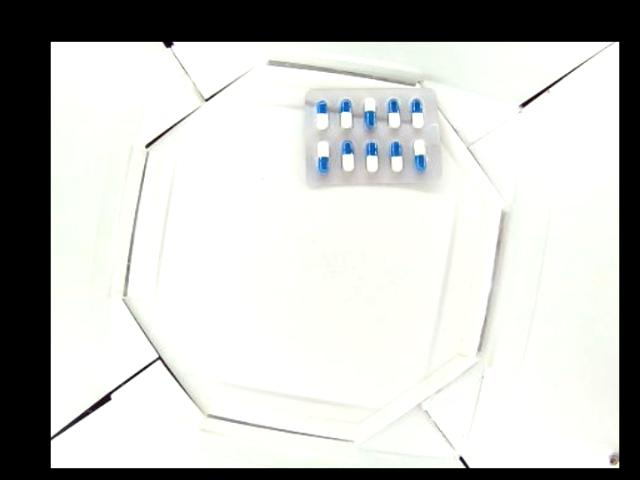Medicine: (301, 87, 440, 190)
